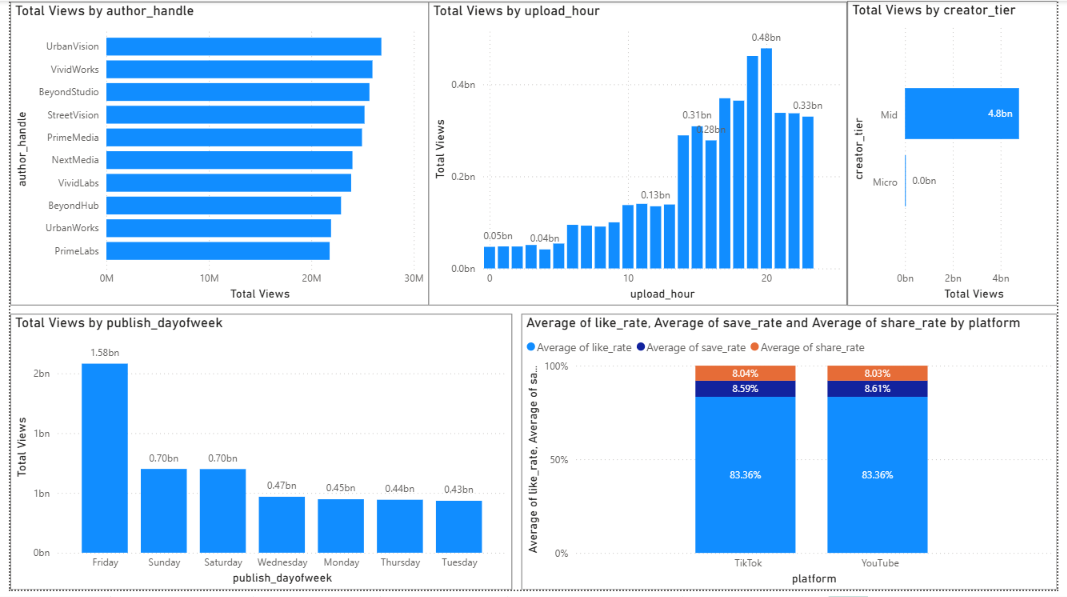

What the dashboard file says about the page in this screenshot:
{"tool":"powerbi","page":{"name":"Creator Insights","canvas":[1280,720],"ordinal":2},"visuals":[{"type":"clusteredBarChart","fields":{"Category":["youtube_shorts_tiktok_trends_2025.author_handle"],"Y":["youtube_shorts_tiktok_trends_2025.Total Views"]},"box":[0,1.6,511.7,371.2],"z":0},{"type":"clusteredBarChart","fields":{"Category":["youtube_shorts_tiktok_trends_2025.creator_tier"],"Y":["youtube_shorts_tiktok_trends_2025.Total Views"]},"box":[1023.4,0,256.6,372.9],"z":1000},{"type":"clusteredColumnChart","fields":{"Category":["youtube_shorts_tiktok_trends_2025.upload_hour"],"Y":["youtube_shorts_tiktok_trends_2025.Total Views"]},"box":[511.7,1.6,511.7,371.2],"z":2000},{"type":"clusteredColumnChart","fields":{"Category":["youtube_shorts_tiktok_trends_2025.publish_dayofweek"],"Y":["youtube_shorts_tiktok_trends_2025.Total Views"]},"box":[0,382.5,613.4,337.4],"z":3000},{"type":"hundredPercentStackedColumnChart","fields":{"Category":["youtube_shorts_tiktok_trends_2025.platform"],"Y":["Avg(youtube_shorts_tiktok_trends_2025.like_rate)","Avg(youtube_shorts_tiktok_trends_2025.save_rate)","Avg(youtube_shorts_tiktok_trends_2025.share_rate)"]},"box":[624.7,382.5,655.3,337.4],"z":4000}]}

Visuals, with their boxes in screenshot pixels (x1, y1, x2, y2), scaled from the page's 1280x720 canvas onto the 1067x597 screenshot:
clusteredBarChart - youtube_shorts_tiktok_trends_2025.author_handle x youtube_shorts_tiktok_trends_2025.Total Views: l=0, t=1, r=427, b=309
clusteredBarChart - youtube_shorts_tiktok_trends_2025.creator_tier x youtube_shorts_tiktok_trends_2025.Total Views: l=853, t=0, r=1066, b=309
clusteredColumnChart - youtube_shorts_tiktok_trends_2025.upload_hour x youtube_shorts_tiktok_trends_2025.Total Views: l=427, t=1, r=853, b=309
clusteredColumnChart - youtube_shorts_tiktok_trends_2025.publish_dayofweek x youtube_shorts_tiktok_trends_2025.Total Views: l=0, t=317, r=511, b=596
hundredPercentStackedColumnChart - youtube_shorts_tiktok_trends_2025.platform x Avg(youtube_shorts_tiktok_trends_2025.like_rate): l=521, t=317, r=1066, b=596
